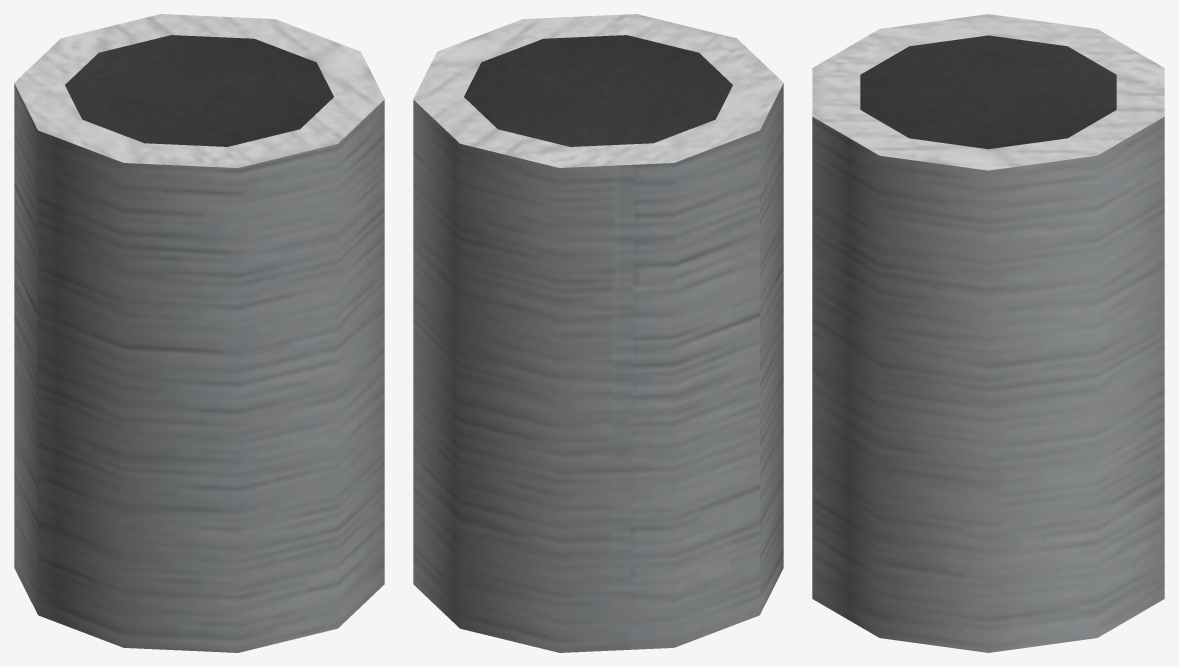
Rendered from Stage_Cannon.FBX.
3 views of the same model, side by side, from view 1: azimuth 30°, elevation 25°; view 2: azimuth 150°, elevation 25°; view 3: azimuth 270°, elevation 25° (orthographic).
Parts seen in each view (by area): view 1: Stage_Cannon; view 2: Stage_Cannon; view 3: Stage_Cannon.
Boxes of the visible parts, <box> form: Stage_Cannon: <box>14,14,384,652</box>; Stage_Cannon: <box>413,14,783,652</box>; Stage_Cannon: <box>812,14,1164,652</box>.
Size of the model in its own units: 0.3524 by 0.5059 by 0.3351.
